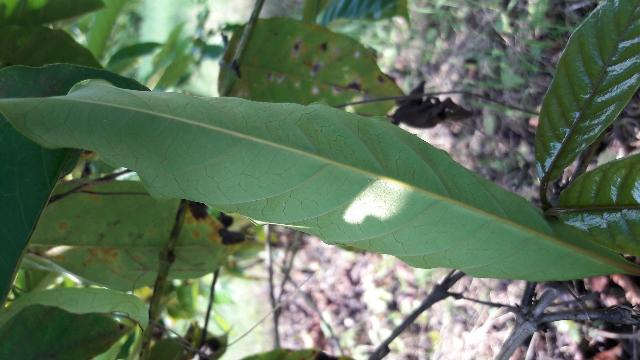healthy: (2, 77, 637, 282)
